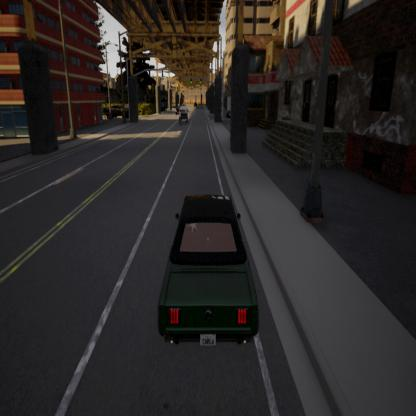Cars: (158, 196, 259, 347), (105, 105, 131, 120), (178, 104, 188, 122), (176, 105, 182, 116), (178, 110, 182, 124)
